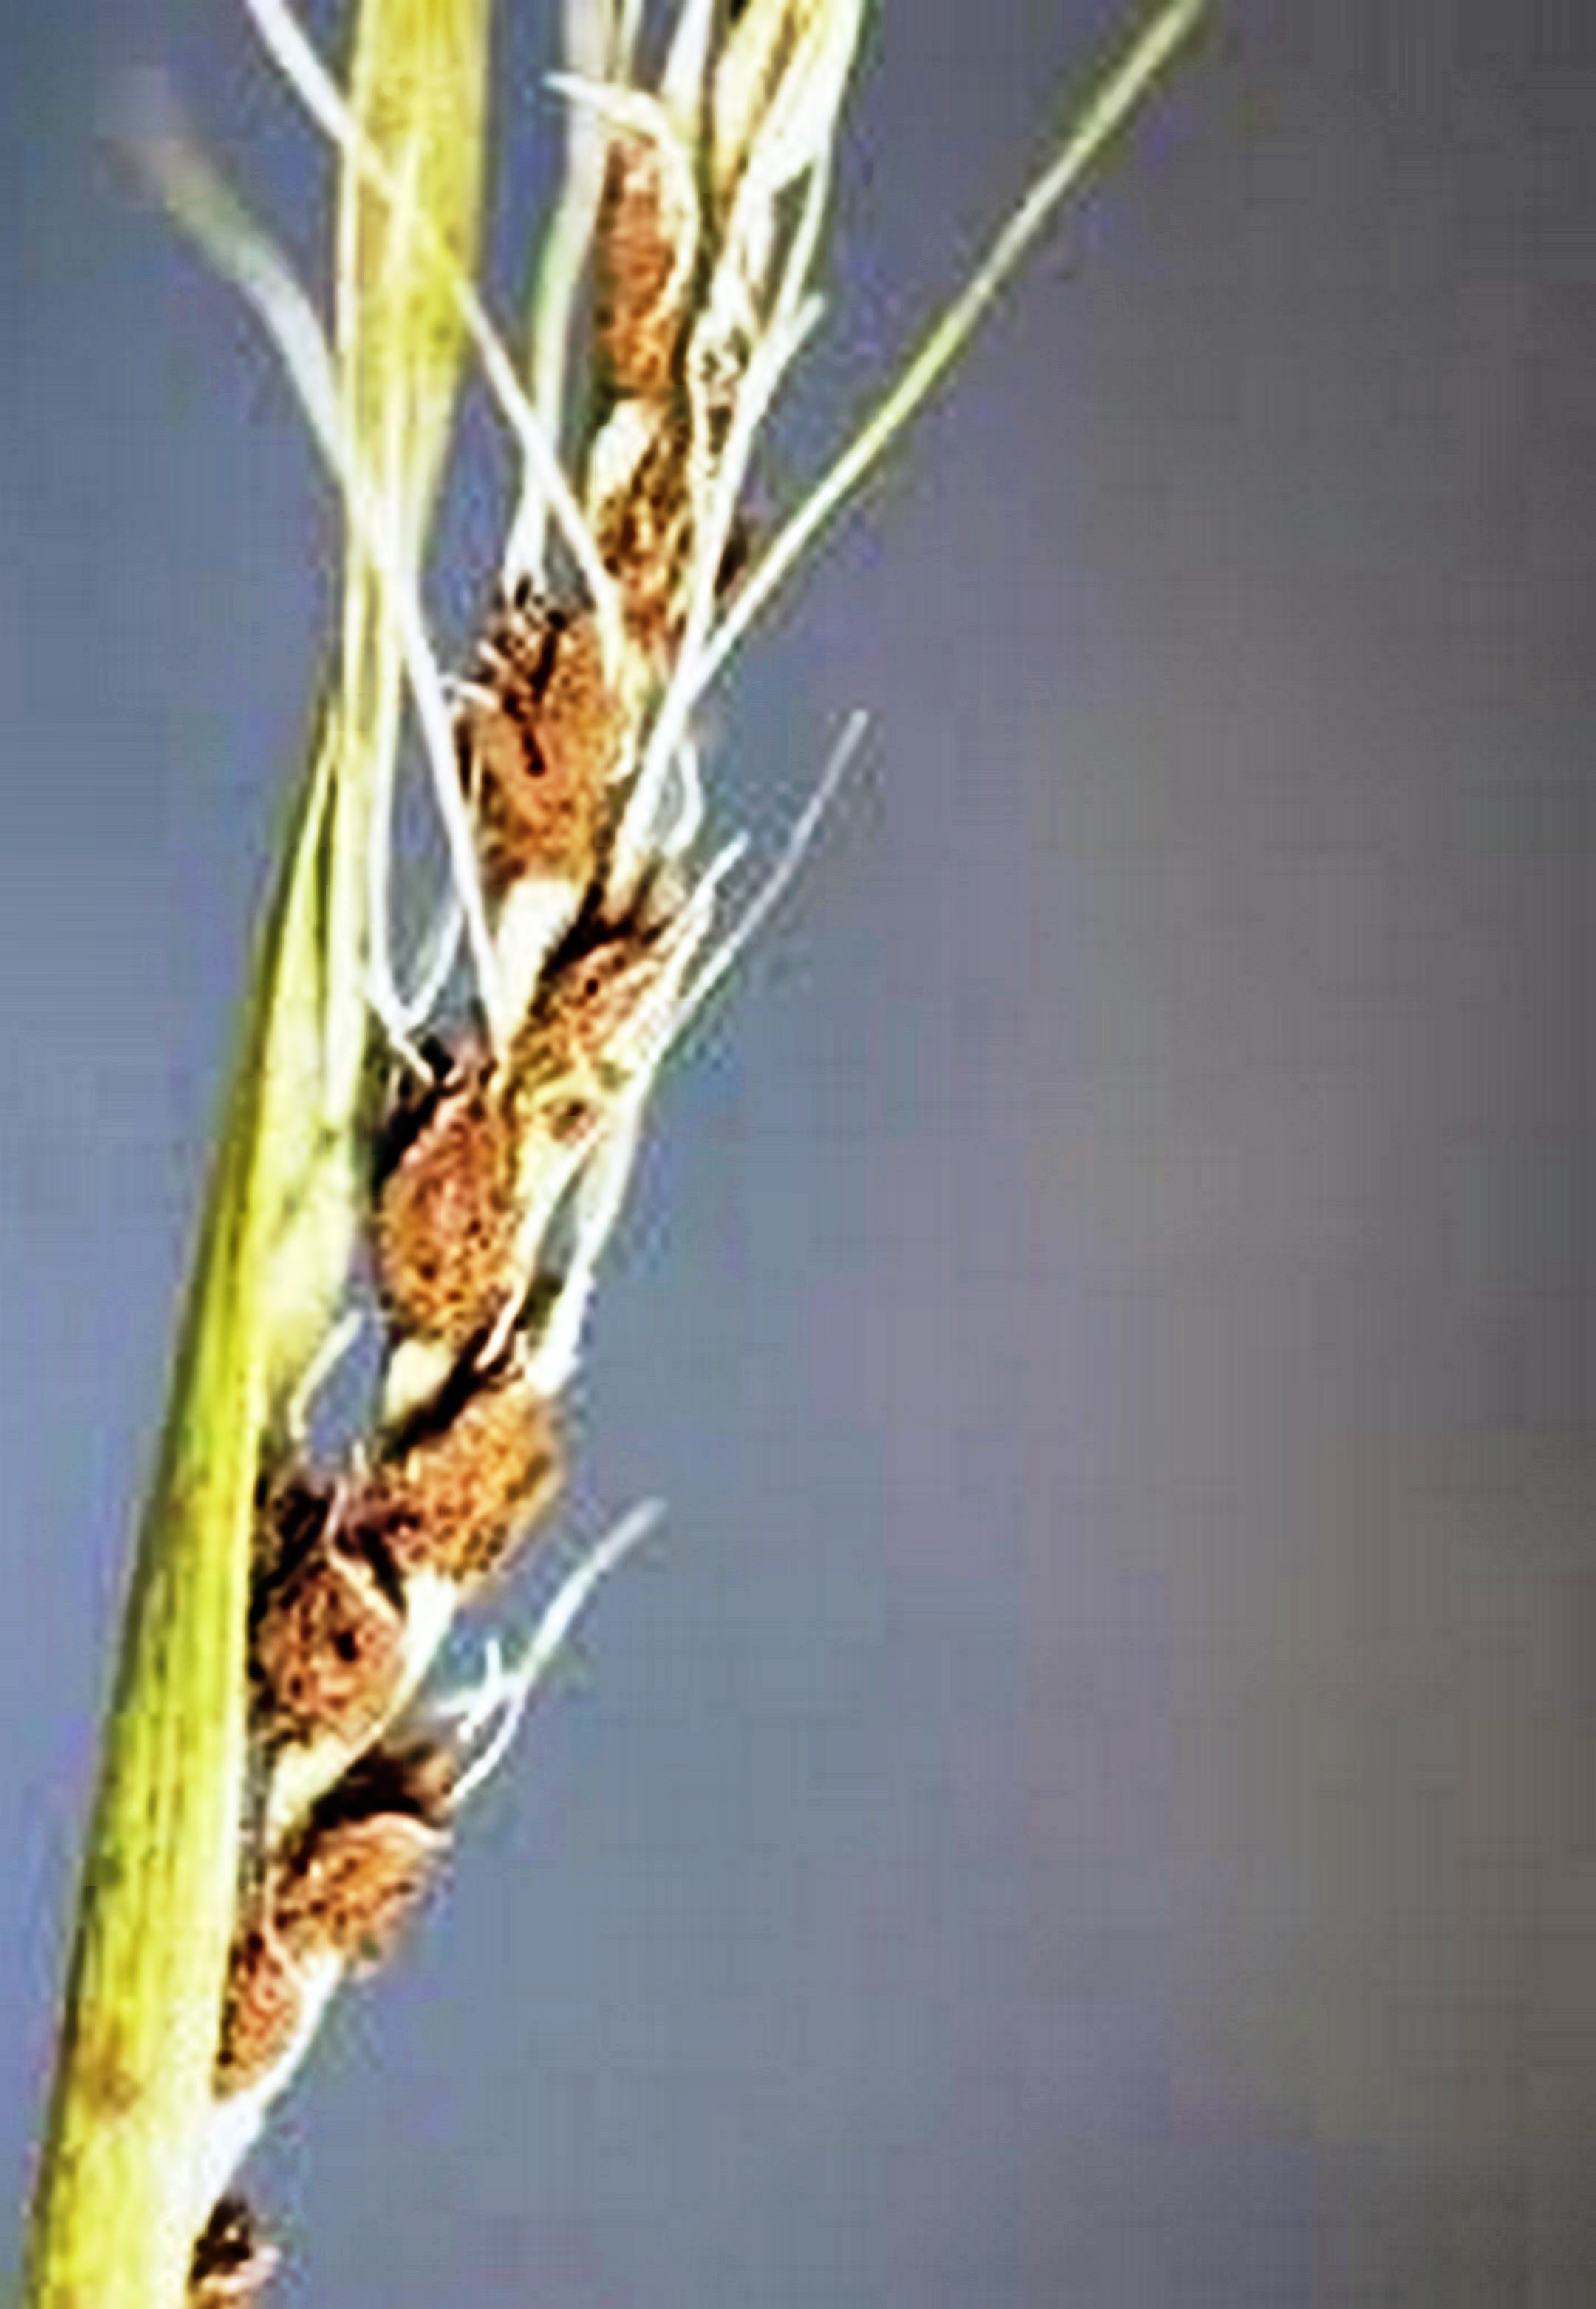Wheat Loose Smut: (261, 149, 912, 2034)
